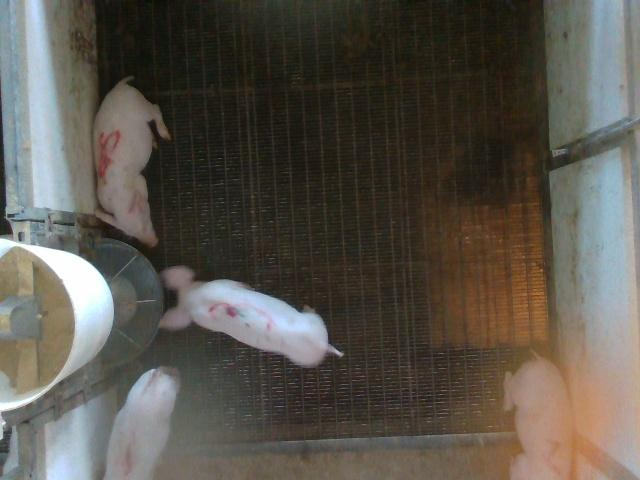pig-1: (104, 366, 180, 478)
pig-2: (504, 354, 571, 478)
pig-3: (161, 266, 344, 367)
pig-5: (94, 76, 170, 247)
